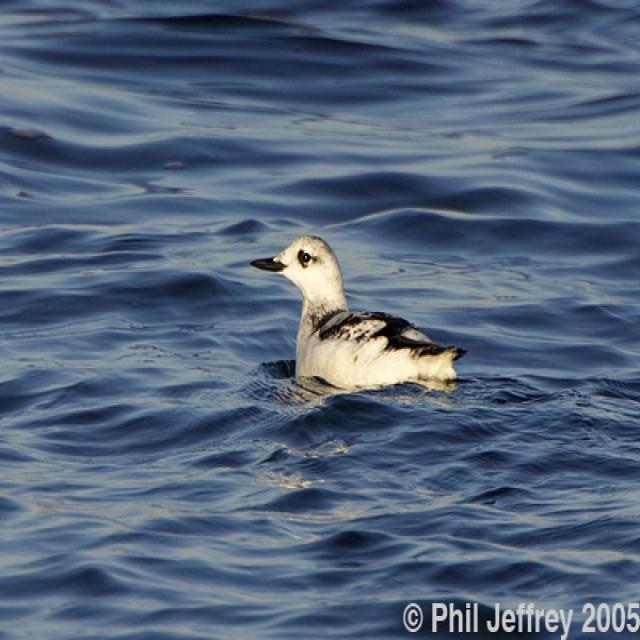bird: (253, 232, 471, 392)
